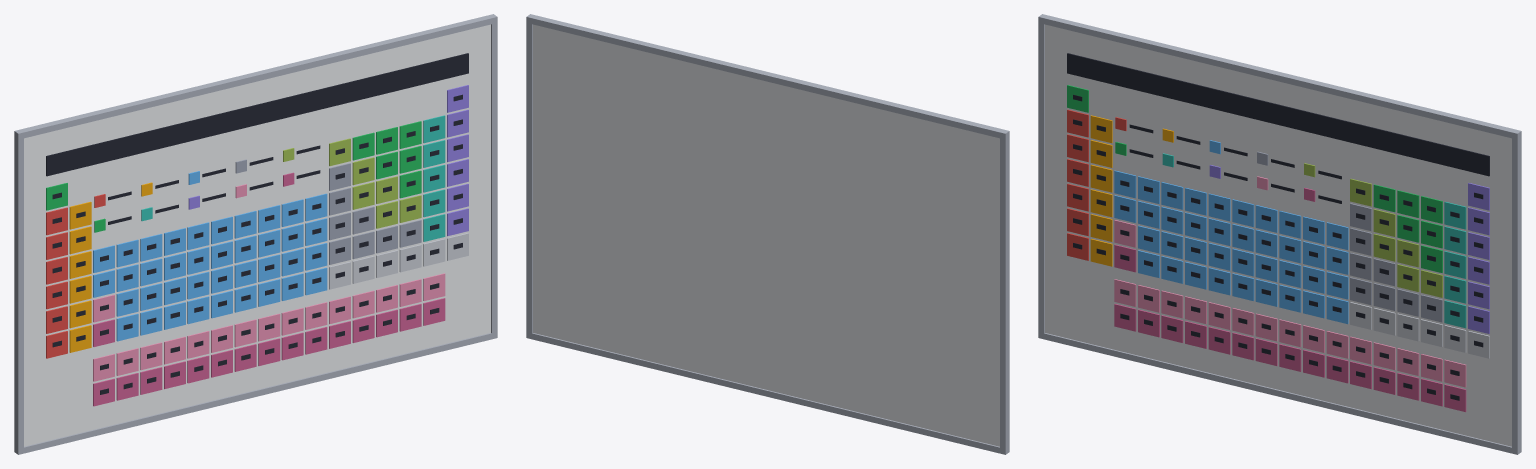
File: sch-012.glb
The picture shows the model from 3 angles, left to right: view 1: azimuth 30°, elevation 25°; view 2: azimuth 150°, elevation 25°; view 3: azimuth 330°, elevation 25°; orthographic projection.
Parts seen in each view (by area): view 1: chart_board, title_band, frame_top, frame_bottom, frame_side_1, frame_side_2, actinide_12, cell_p3_g14, cell_p4_g2, cell_p4_g9, cell_p4_g14, cell_p4_g16 (+108 smaller); view 2: chart_board, frame_top, frame_bottom, frame_side_1, frame_side_2; view 3: chart_board, title_band, frame_top, frame_bottom, frame_side_2, frame_side_1, actinide_3, cell_p4_g3, cell_p4_g5, cell_p4_g10, cell_p4_g17, cell_p5_g15 (+108 smaller).
Part boxes in pixels (x1,y1,x2,y2): chart_board: (24, 24, 490, 446); title_band: (46, 53, 468, 176); frame_top: (14, 14, 497, 139); frame_bottom: (14, 332, 497, 454); frame_side_1: (14, 137, 23, 448); frame_side_2: (491, 23, 497, 333); actinide_12: (352, 315, 374, 342); cell_p3_g14: (352, 157, 374, 185); cell_p4_g2: (69, 251, 91, 278); cell_p4_g9: (234, 211, 256, 238); cell_p4_g14: (352, 182, 374, 209); cell_p4_g16: (399, 170, 421, 198); chart_board: (533, 24, 999, 446); frame_top: (526, 14, 1009, 139); frame_bottom: (526, 332, 1009, 454); frame_side_1: (1000, 137, 1009, 448); frame_side_2: (526, 23, 532, 333); chart_board: (1045, 24, 1511, 446); title_band: (1067, 53, 1489, 176); frame_top: (1038, 14, 1521, 139); frame_bottom: (1038, 332, 1521, 454); frame_side_2: (1512, 137, 1521, 448); frame_side_1: (1038, 23, 1044, 333); actinide_3: (1161, 315, 1183, 342); cell_p4_g3: (1114, 170, 1136, 198); cell_p4_g5: (1161, 182, 1183, 209); cell_p4_g10: (1279, 211, 1301, 238); cell_p4_g17: (1444, 251, 1466, 278); cell_p5_g15: (1397, 264, 1419, 291).
Bounding box in the file's own units: 1.26 × 0.8068 × 0.018.
